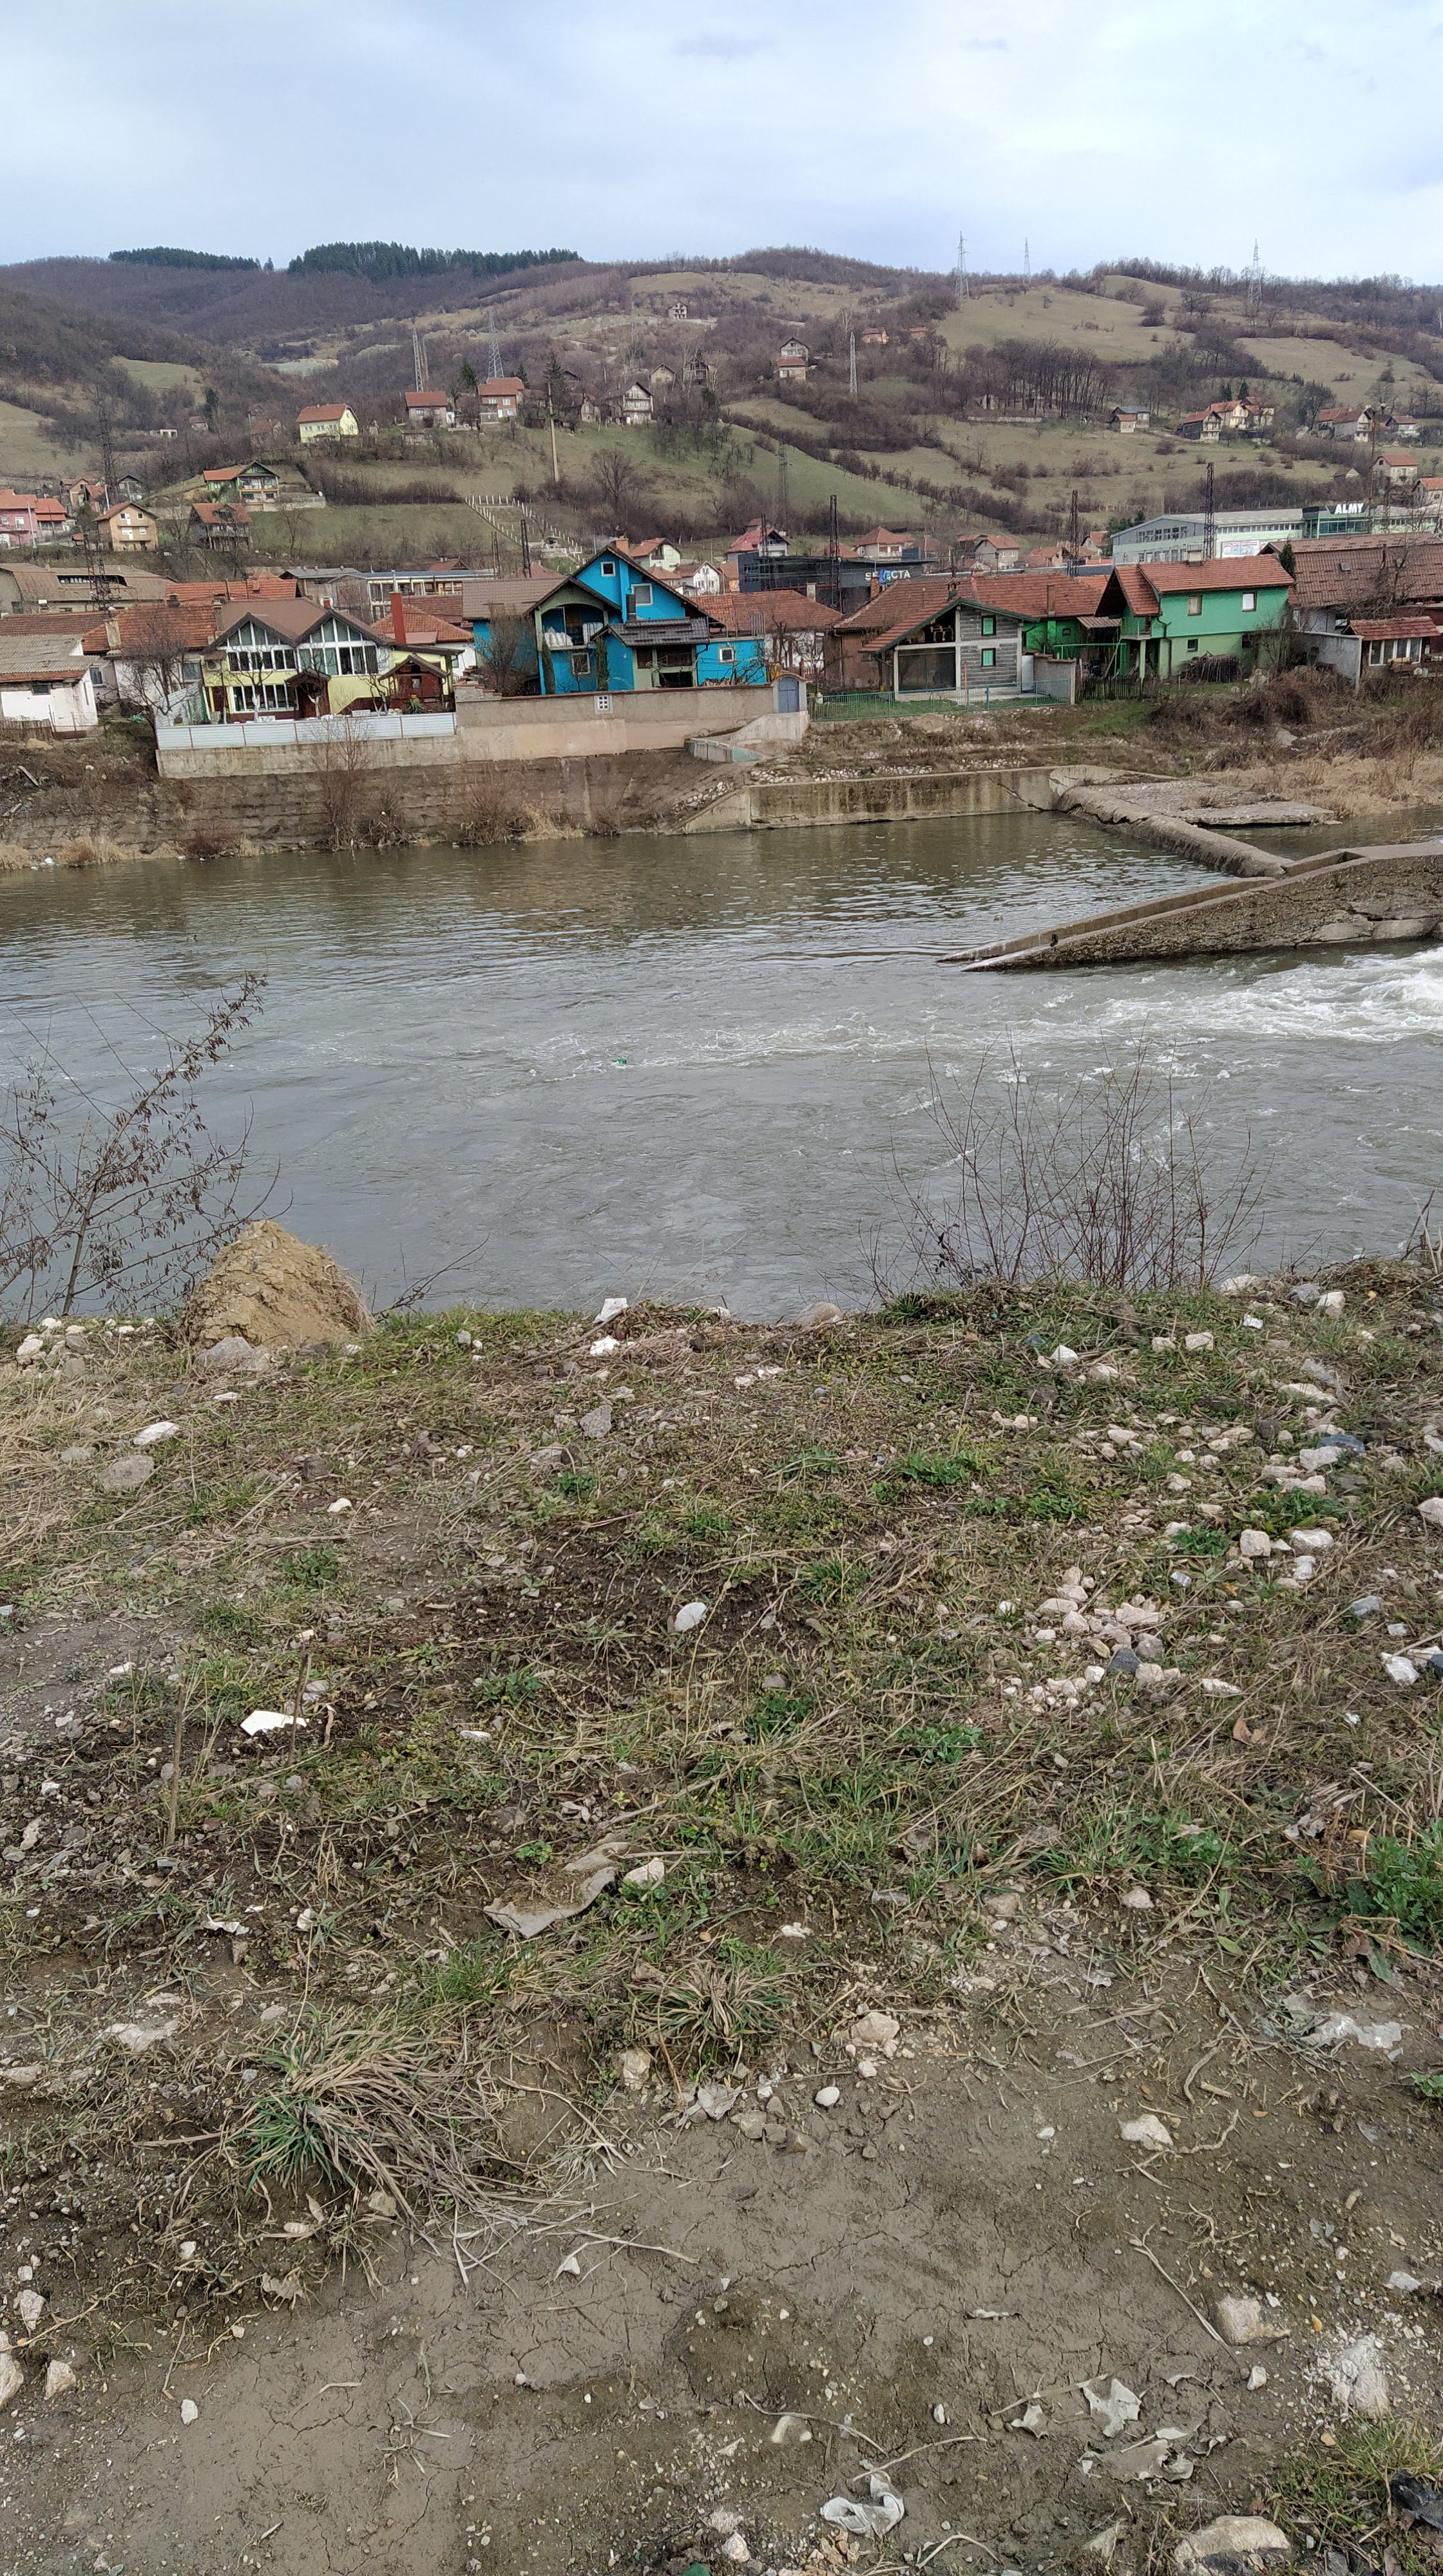Plastic Bottle: (616, 1056, 625, 1063), (177, 855, 184, 860)
